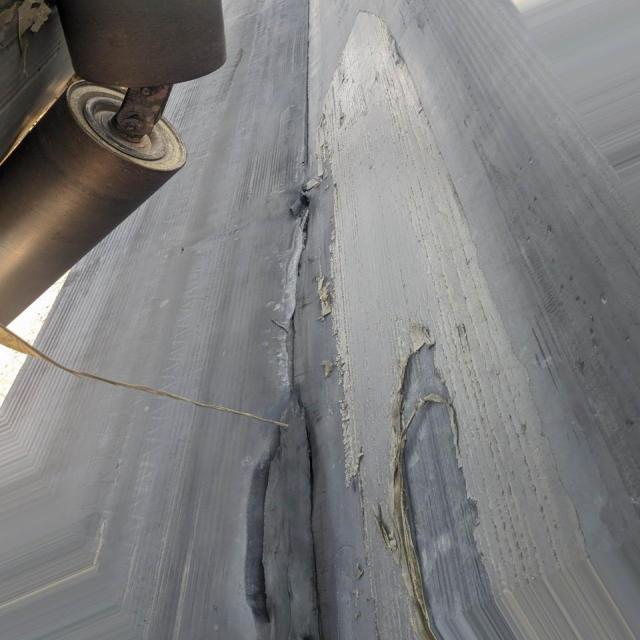Roller: (0, 87, 184, 330), (64, 0, 224, 87)
Tear: (291, 182, 373, 627), (398, 340, 484, 627)
